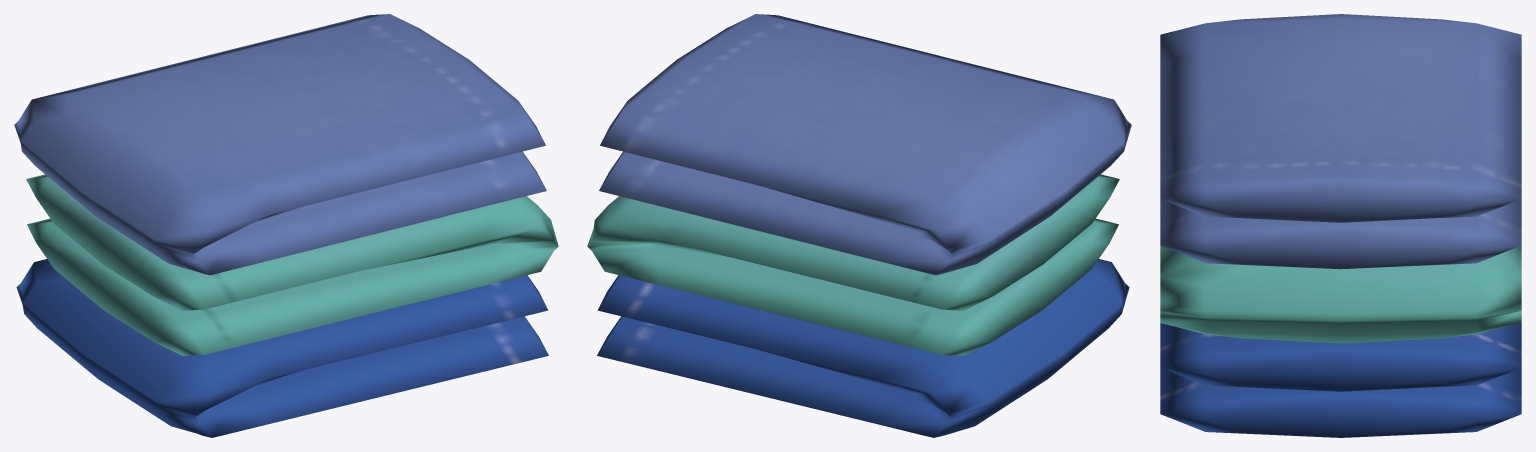
The model's file is towels.fbx.
The picture shows the model from 3 angles, left to right: view 1: azimuth 30°, elevation 25°; view 2: azimuth 150°, elevation 25°; view 3: azimuth 270°, elevation 25°; orthographic projection.
Parts seen in each view (by area): view 1: polySurface562; view 2: polySurface562; view 3: polySurface562.
Boxes of the visible parts, bbox=[...] form: polySurface562: bbox=[14, 14, 558, 437]; polySurface562: bbox=[587, 14, 1131, 437]; polySurface562: bbox=[1160, 14, 1521, 437].
Bounding box in the file's own units: 0.5944 × 0.3576 × 0.4483.
Materials: 1 (1 with a texture image).
